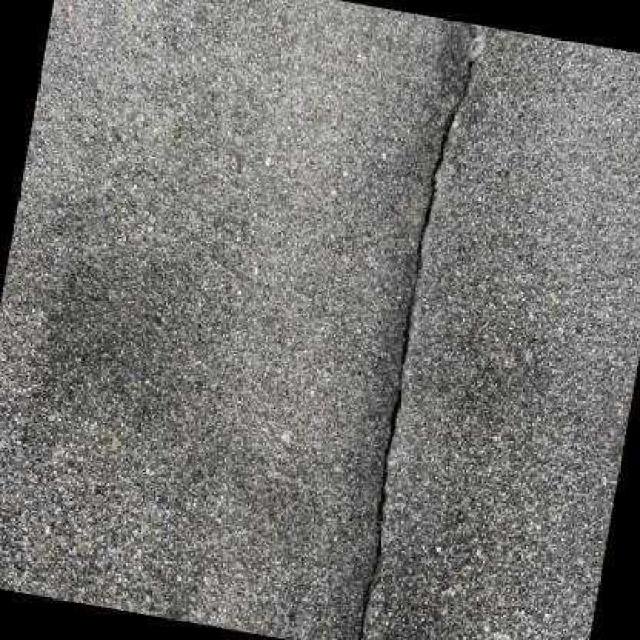D00: (357, 60, 471, 640)
